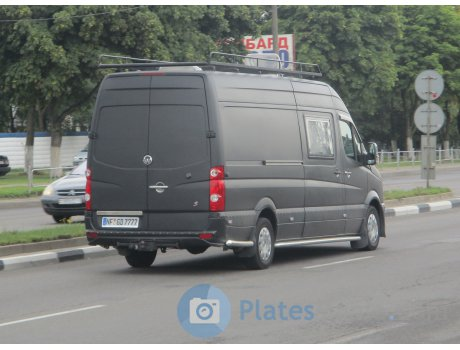License Plates: (103, 219, 133, 226)
